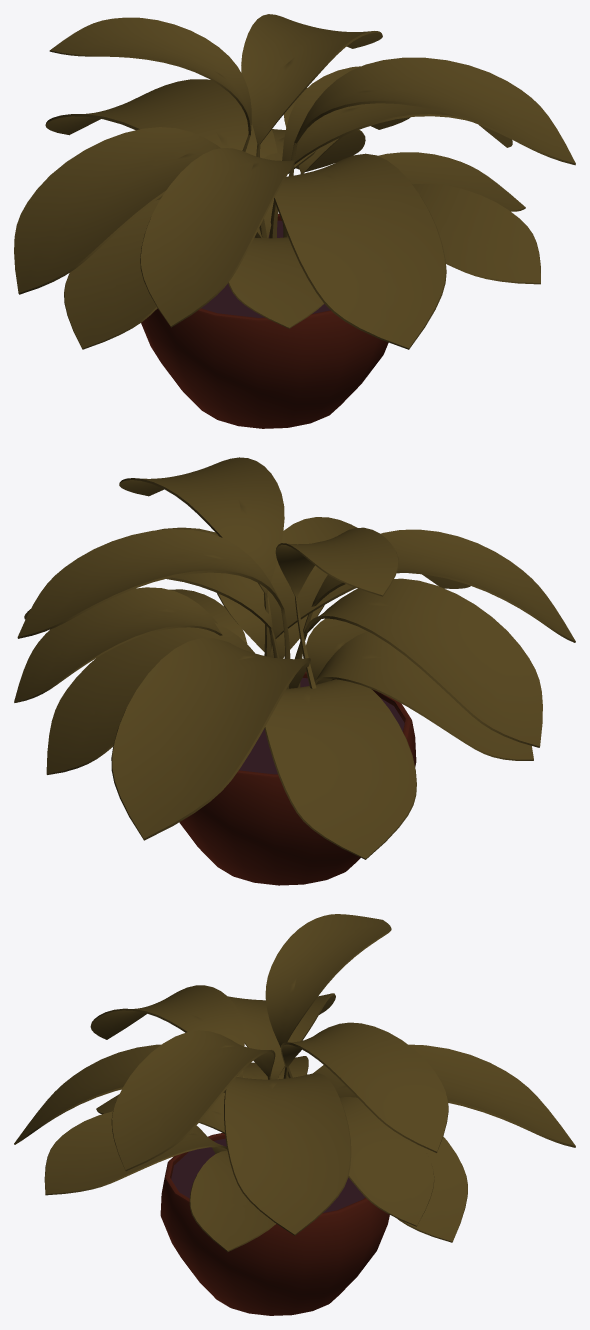
The model's file is EH Plant.fbx.
The picture shows the model from 3 angles, top to bottom: view 1: azimuth 30°, elevation 25°; view 2: azimuth 150°, elevation 25°; view 3: azimuth 270°, elevation 25°; orthographic projection. The views are drawn at different scales.
Parts seen in each view (by area): view 1: Line080, pot003, Line079, Line082, Line084, Line083, Line087, Line092, Line086, Line085, Line090, Line078 (+4 smaller); view 2: Line086, Line088, Line079, pot003, Line083, Line089, Line081, Line084, Line092, Line082, Line085, Line080 (+5 smaller); view 3: pot003, Line078, Line084, Line083, Line085, Line081, Line086, Line087, Line091, Line082, Line080, Line089 (+4 smaller).
Part boxes in pixels (x1,y1,x2,y2): Line080: (274, 153, 446, 349); pot003: (141, 213, 388, 428); Line079: (14, 127, 266, 294); Line082: (140, 148, 295, 327); Line084: (289, 57, 575, 176); Line083: (241, 14, 382, 237); Line087: (412, 183, 540, 284); Line092: (64, 199, 159, 349); Line086: (45, 79, 277, 238); Line085: (49, 17, 251, 151); Line090: (228, 237, 323, 328); Line078: (269, 66, 512, 238); Line086: (111, 638, 310, 840); Line088: (264, 679, 416, 859); Line079: (295, 578, 542, 747); pot003: (179, 671, 416, 885); Line083: (17, 529, 290, 688); Line089: (46, 622, 254, 774); Line081: (14, 587, 222, 702); Line084: (119, 457, 284, 656); Line092: (315, 631, 533, 760); Line082: (298, 529, 575, 687); Line085: (275, 527, 398, 688); Line080: (267, 517, 470, 651); pot003: (160, 1133, 389, 1315); Line078: (224, 1073, 351, 1235); Line084: (111, 1030, 275, 1171); Line083: (280, 1022, 448, 1152); Line085: (265, 914, 391, 1078); Line081: (340, 1097, 434, 1226); Line086: (313, 1044, 575, 1147); Line087: (44, 1111, 227, 1195); Line091: (189, 1150, 275, 1251); Line082: (90, 985, 244, 1077); Line080: (14, 1044, 244, 1144); Line089: (398, 1137, 467, 1242).
Bounding box in the file's own units: 60.62 × 41.38 × 66.77.
